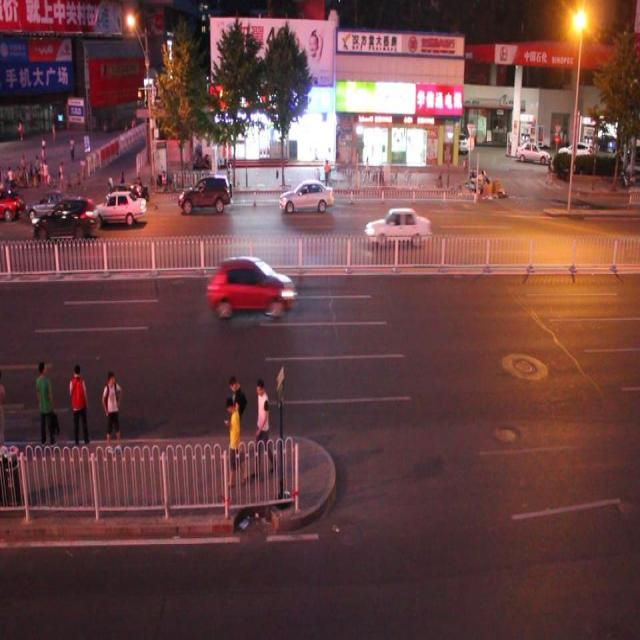car: (205, 252, 296, 319), (31, 193, 100, 240), (175, 172, 237, 217), (366, 206, 432, 247), (278, 175, 335, 220), (25, 186, 81, 226), (91, 189, 146, 225), (101, 180, 145, 223)
